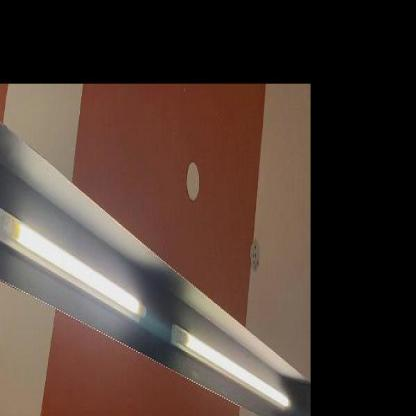light_on: (0, 191, 149, 332), (166, 306, 294, 415)
